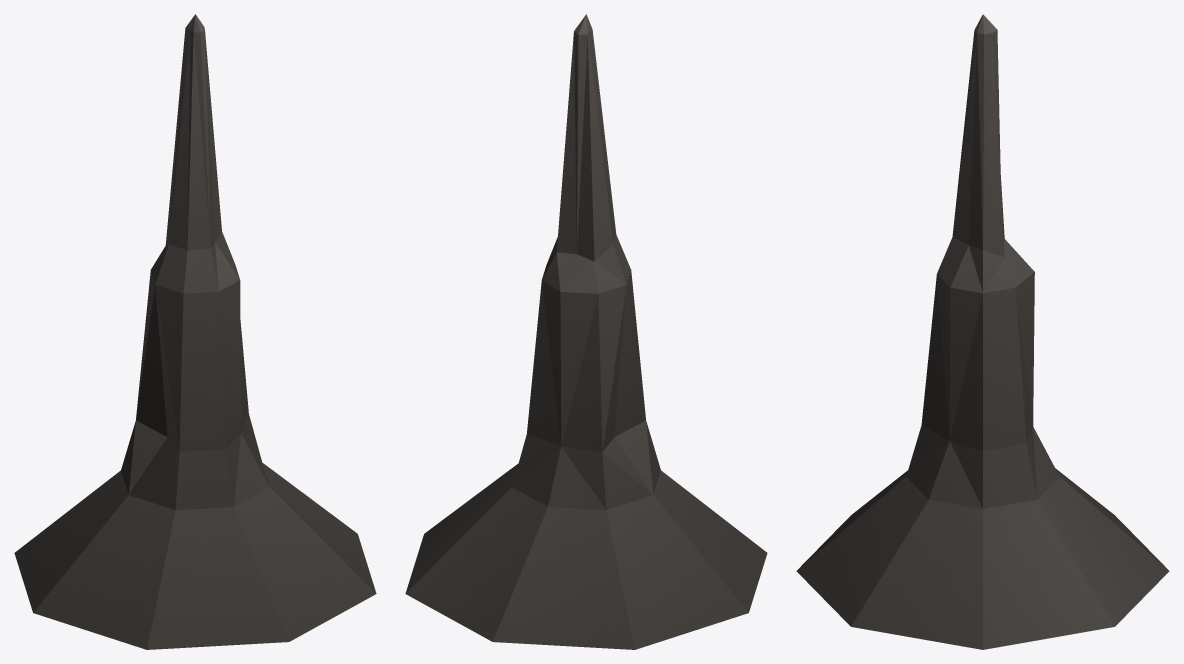
Rendered from Stal_3B.fbx.
3 views of the same model, side by side, from view 1: azimuth 30°, elevation 25°; view 2: azimuth 150°, elevation 25°; view 3: azimuth 270°, elevation 25° (orthographic).
Visible parts, largest first — view 1: pCone6; view 2: pCone6; view 3: pCone6.
Boxes of the visible parts, box(x1,y1,x2,y2) form: pCone6: box(14, 14, 376, 649); pCone6: box(405, 14, 767, 649); pCone6: box(796, 14, 1169, 649).
Size of the model in its own units: 121 by 200 by 121.
Materials: 1 (1 with a texture image).
